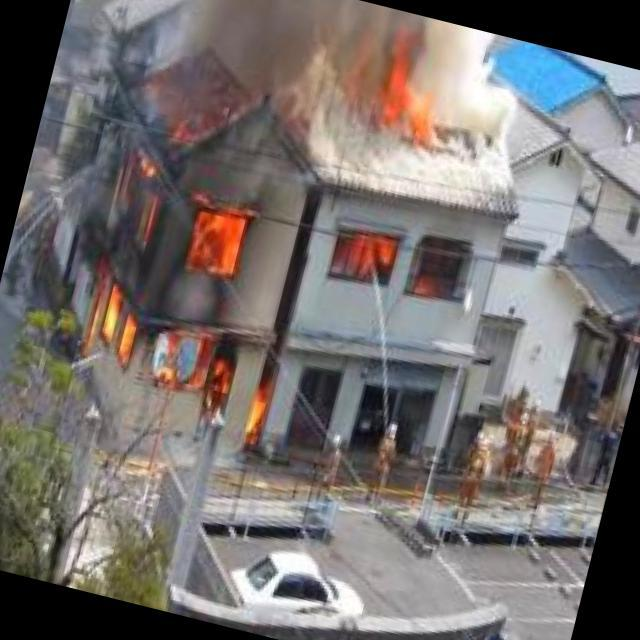Fire: (53, 127, 326, 454), (356, 21, 478, 154), (329, 216, 460, 303)
